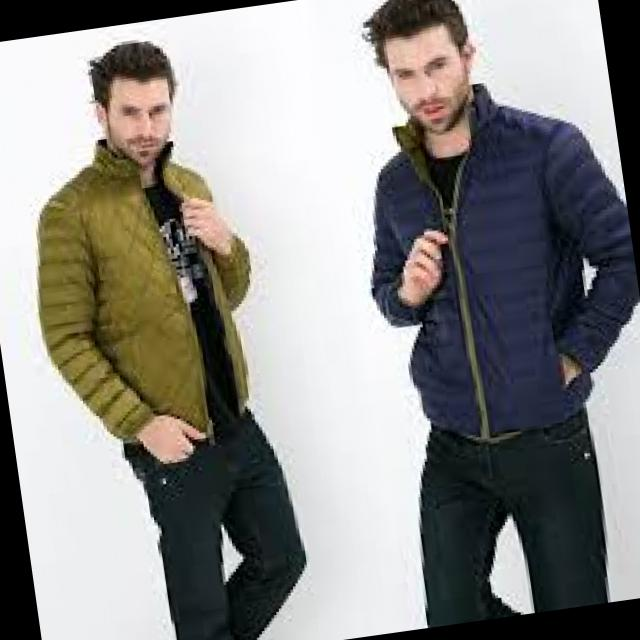Jacket: (328, 79, 640, 473), (13, 140, 296, 486)
